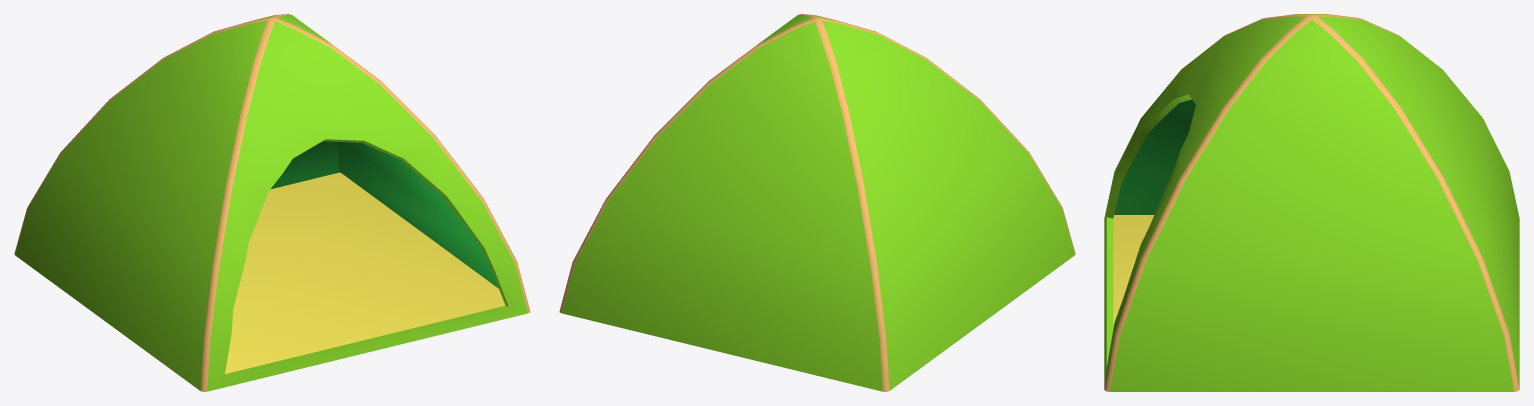
Rendered from Tent.fbx.
3 views of the same model, side by side, from view 1: azimuth 30°, elevation 25°; view 2: azimuth 150°, elevation 25°; view 3: azimuth 270°, elevation 25° (orthographic). The views are drawn at different scales.
Parts seen in each view (by area): view 1: Tent; view 2: Tent; view 3: Tent.
Part boxes in pixels (<box>): Tent: <box>14,14,530,391</box>; Tent: <box>559,14,1075,391</box>; Tent: <box>1104,14,1519,391</box>.
Bounding box in the file's own units: 65.36 × 50.07 × 65.36.
